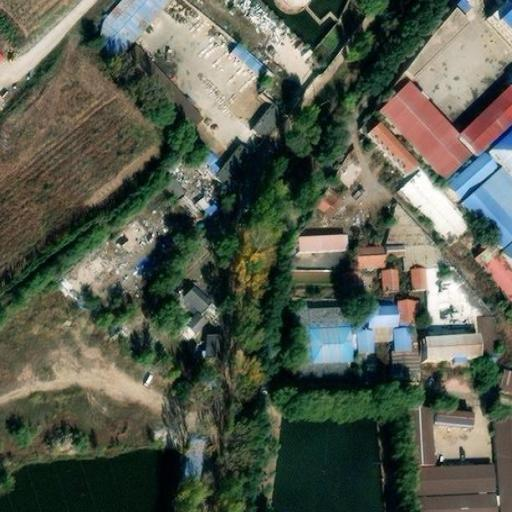building: (370, 88, 469, 190), (116, 50, 196, 133), (80, 0, 164, 64), (452, 83, 512, 167), (397, 15, 462, 92), (448, 192, 512, 262), (285, 310, 348, 373), (358, 125, 415, 179), (486, 418, 512, 512), (348, 327, 400, 372), (441, 162, 485, 208), (400, 411, 430, 477), (220, 43, 265, 85), (328, 144, 368, 187), (417, 344, 477, 372), (480, 262, 512, 313), (207, 146, 244, 188), (176, 278, 215, 316), (424, 408, 470, 440), (179, 430, 207, 480), (179, 138, 214, 173), (475, 321, 497, 370), (290, 236, 338, 258), (247, 104, 275, 137), (290, 263, 338, 281), (490, 19, 512, 58), (308, 188, 335, 216), (182, 308, 209, 335), (159, 173, 186, 200), (349, 253, 383, 272), (374, 272, 394, 299), (200, 329, 220, 356), (497, 244, 512, 275), (392, 305, 412, 327), (406, 272, 421, 297)
